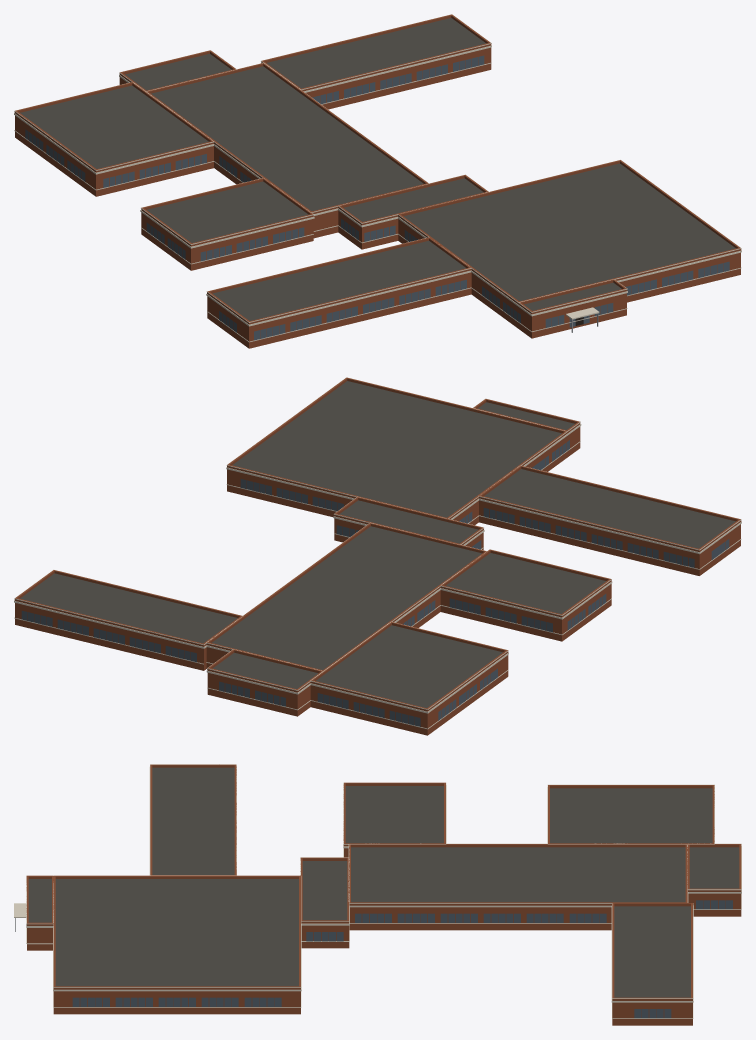
File: nlr-academy.glb
3 views of the same model, one above another, from view 1: azimuth 30°, elevation 25°; view 2: azimuth 150°, elevation 25°; view 3: azimuth 270°, elevation 25° (orthographic). The views are drawn at different scales.
Visible parts, largest first — view 1: nlr_academy; view 2: nlr_academy; view 3: nlr_academy.
Boxes of the visible parts, left/top/right/bottom form: nlr_academy: left=14, top=14, right=741, bottom=348; nlr_academy: left=14, top=377, right=741, bottom=735; nlr_academy: left=14, top=764, right=741, bottom=1025.
Bounding box in the file's own units: 103 × 5.6 × 136.
